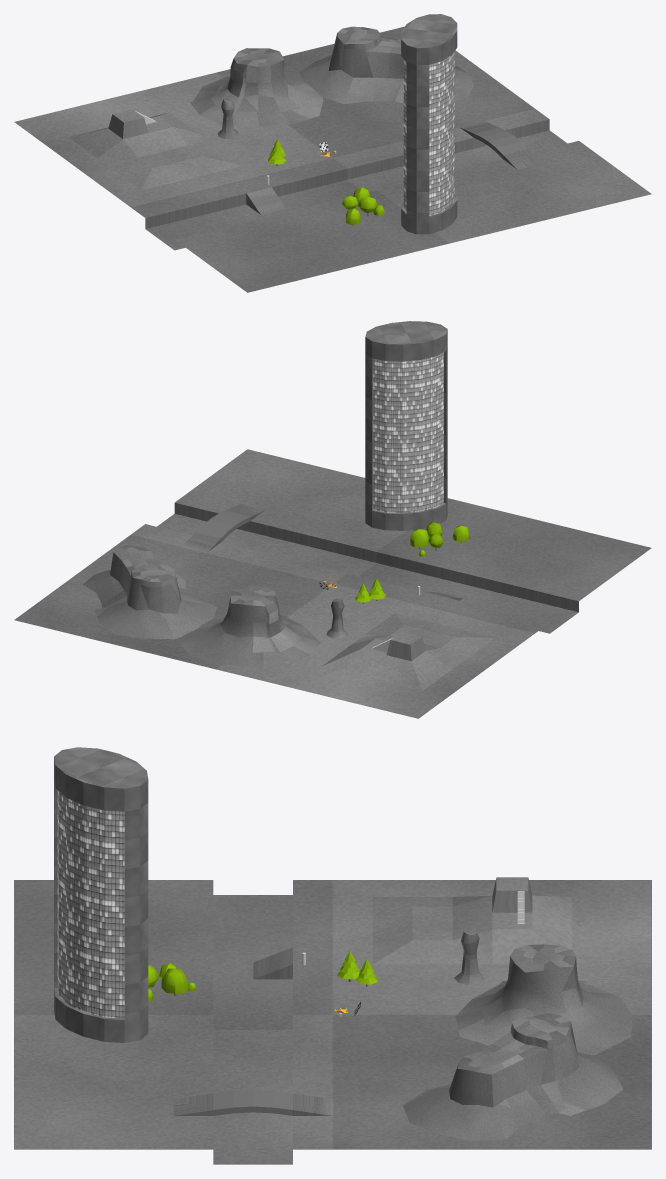
Rendered from tosij3d.glb.
3 renders of one model, top to bottom at view 1: azimuth 30°, elevation 25°; view 2: azimuth 150°, elevation 25°; view 3: azimuth 270°, elevation 25°, orthographic. The views are drawn at different scales.
Visible parts, largest first — view 1: ground_nocast_collideMesh, building_collideCylinder, mesa_collideMesh, table_collideMesh, spire_collideMesh; view 2: ground_nocast_collideMesh, building_collideCylinder, table_collideMesh, mesa_collideMesh; view 3: ground_nocast_collideMesh, building_collideCylinder, table_collideMesh, mesa_collideMesh, spire_collideMesh.
Boxes of the visible parts, left/top/right/bottom form: ground_nocast_collideMesh: left=14, top=26, right=651, bottom=292; building_collideCylinder: left=401, top=14, right=457, bottom=234; mesa_collideMesh: left=190, top=48, right=323, bottom=126; table_collideMesh: left=299, top=26, right=473, bottom=104; spire_collideMesh: left=218, top=99, right=238, bottom=139; ground_nocast_collideMesh: left=14, top=449, right=651, bottom=718; building_collideCylinder: left=365, top=321, right=447, bottom=530; table_collideMesh: left=83, top=545, right=216, bottom=639; mesa_collideMesh: left=176, top=585, right=320, bottom=667; ground_nocast_collideMesh: left=14, top=877, right=651, bottom=1164; building_collideCylinder: left=54, top=747, right=148, bottom=1042; table_collideMesh: left=402, top=1013, right=623, bottom=1140; mesa_collideMesh: left=455, top=944, right=632, bottom=1055; spire_collideMesh: left=454, top=928, right=484, bottom=984.
Bounding box in the file's own units: 100 × 46.61 × 100.
17 materials, 3 textured.
